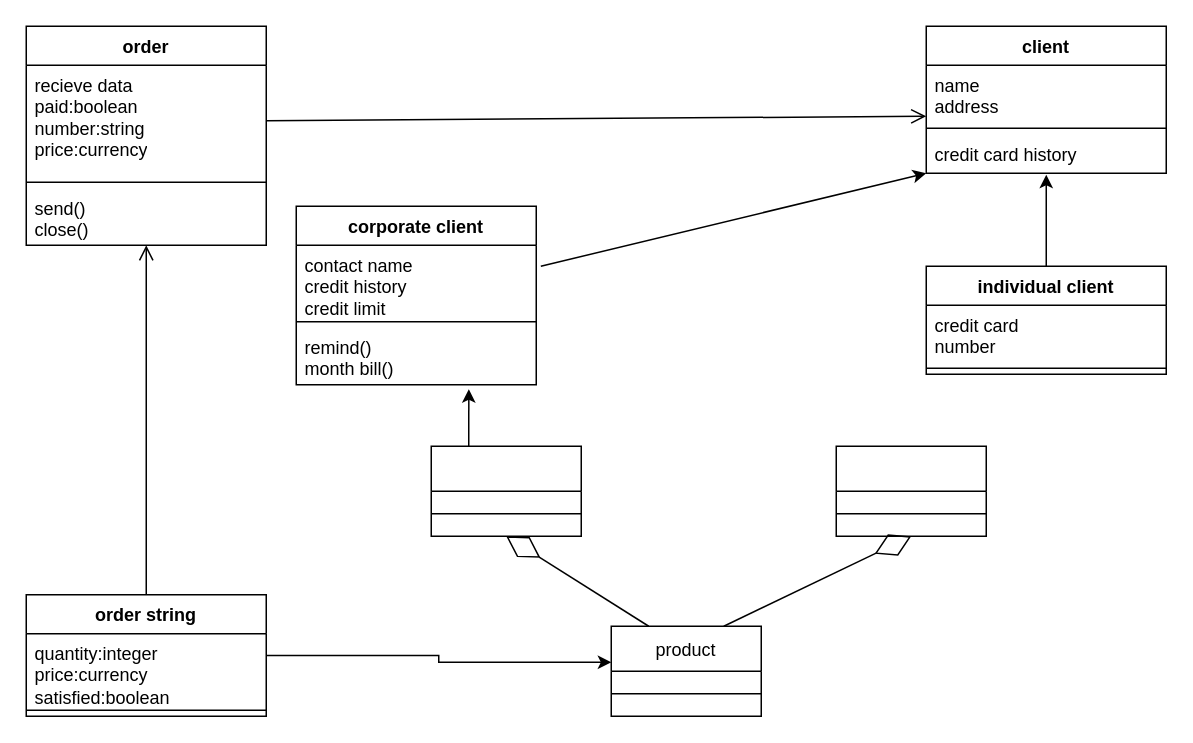
Image size: 1193x743. Some labels were removed from this diagram. Here are the shapes that lost their labels. From the top down, the centre of each, then its label:
At (x=505, y=490): "employee".
At (x=910, y=490): "inventory".
